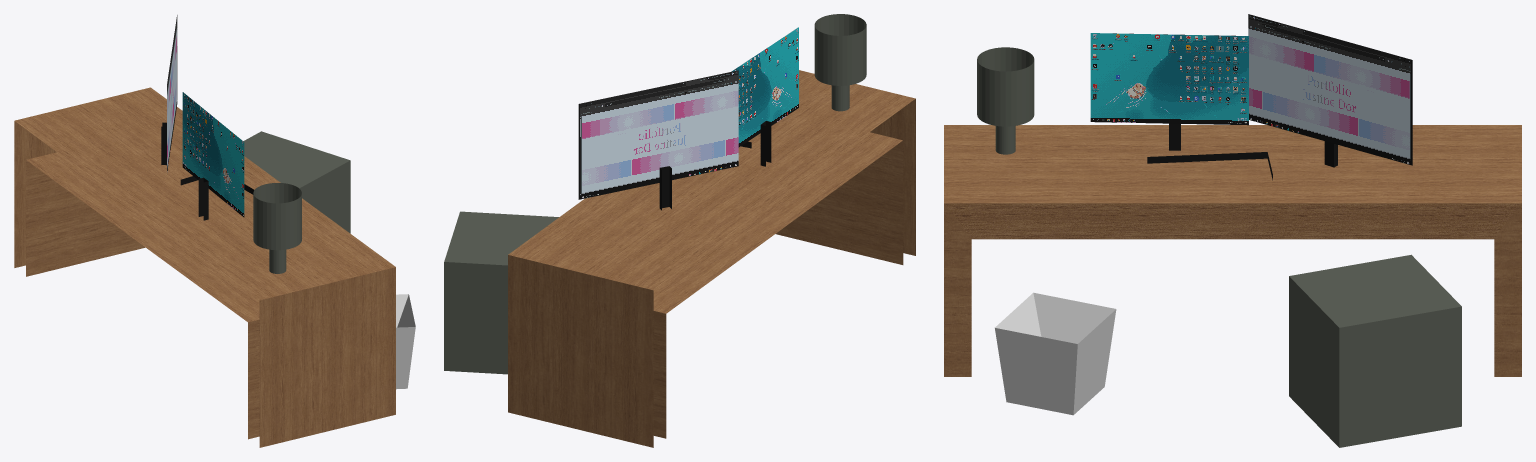
The model's file is Bureau.glb.
The picture shows the model from 3 angles, left to right: view 1: azimuth 30°, elevation 25°; view 2: azimuth 150°, elevation 25°; view 3: azimuth 270°, elevation 25°; orthographic projection. The views are drawn at different scales.
Visible parts, largest first — view 1: Bureau, Computer, Stool, Lamp, Cube; view 2: Bureau, Computer, Stool, Lamp; view 3: Bureau, Computer, Stool, Cube, Lamp.
Boxes of the visible parts, bbox=[...] form: Bureau: bbox=[14, 87, 395, 447]; Computer: bbox=[161, 15, 253, 220]; Stool: bbox=[243, 131, 350, 233]; Lamp: bbox=[253, 183, 301, 273]; Cube: bbox=[396, 294, 415, 389]; Bureau: bbox=[508, 70, 915, 447]; Computer: bbox=[578, 27, 798, 210]; Stool: bbox=[444, 211, 558, 374]; Lamp: bbox=[814, 14, 866, 111]; Bureau: bbox=[944, 125, 1521, 376]; Computer: bbox=[1090, 14, 1412, 180]; Stool: bbox=[1289, 254, 1461, 447]; Cube: bbox=[995, 292, 1116, 415]; Lamp: bbox=[977, 47, 1034, 154].
Bounding box in the file's own units: 3.32 × 3.22 × 5.46.
Materials: 3 (2 with a texture image).
